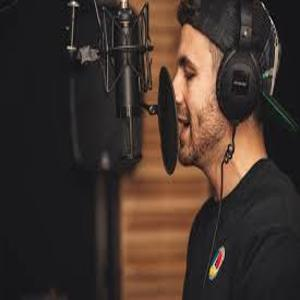Headphones: (213, 1, 263, 125)
